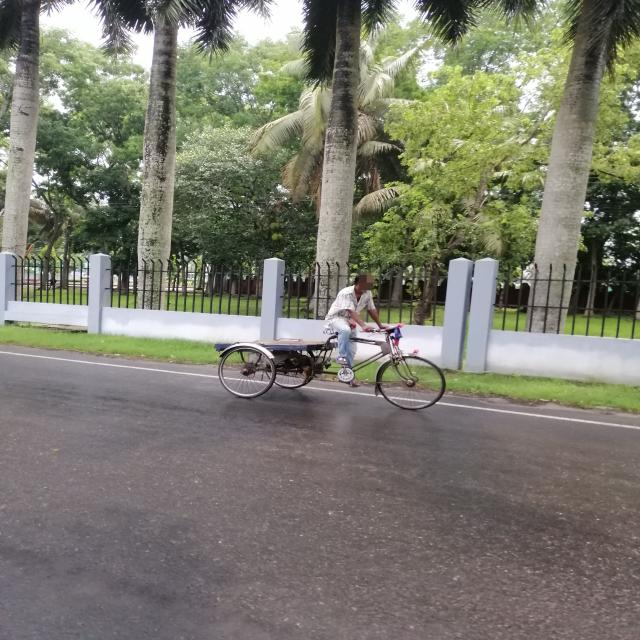Van: (207, 316, 458, 419)
